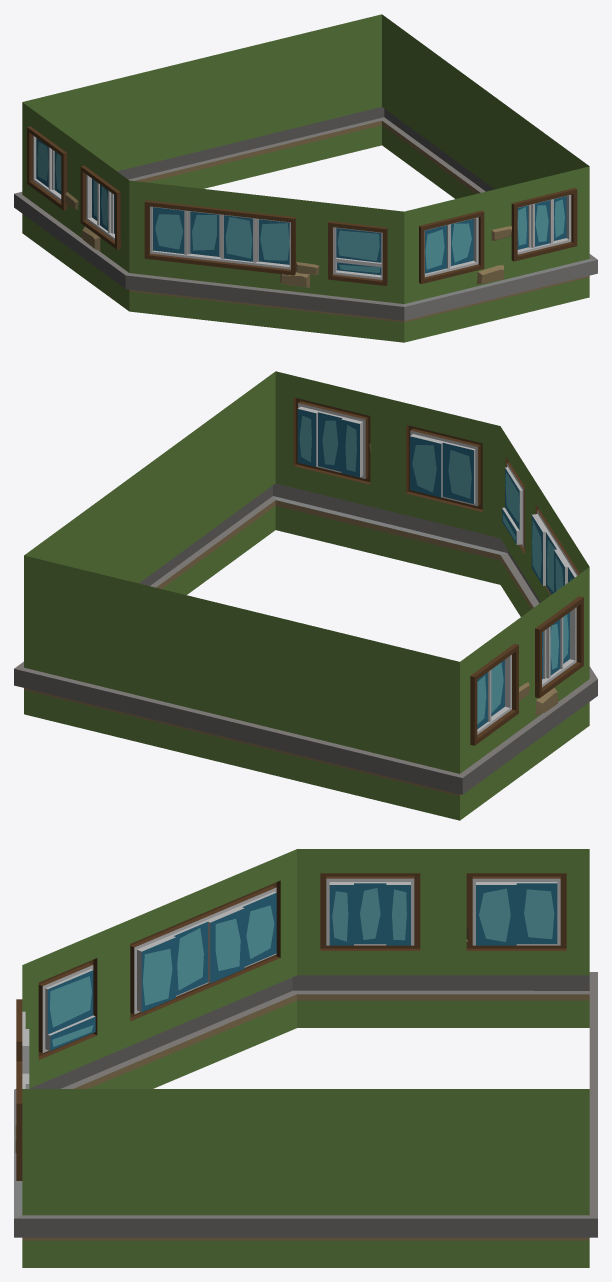
The model's file is Building_A_02_02.FBX.
3 renders of one model, top to bottom at view 1: azimuth 30°, elevation 25°; view 2: azimuth 150°, elevation 25°; view 3: azimuth 270°, elevation 25°, orthographic. The views are drawn at different scales.
Visible parts, largest first — view 1: Building_A_02_02; view 2: Building_A_02_02; view 3: Building_A_02_02.
Boxes of the visible parts, x1,y1,x2,y2 form: Building_A_02_02: [14, 14, 597, 342]; Building_A_02_02: [14, 371, 597, 820]; Building_A_02_02: [14, 849, 597, 1267].
Size of the model in its own units: 5.02 by 1.7 by 5.02.
